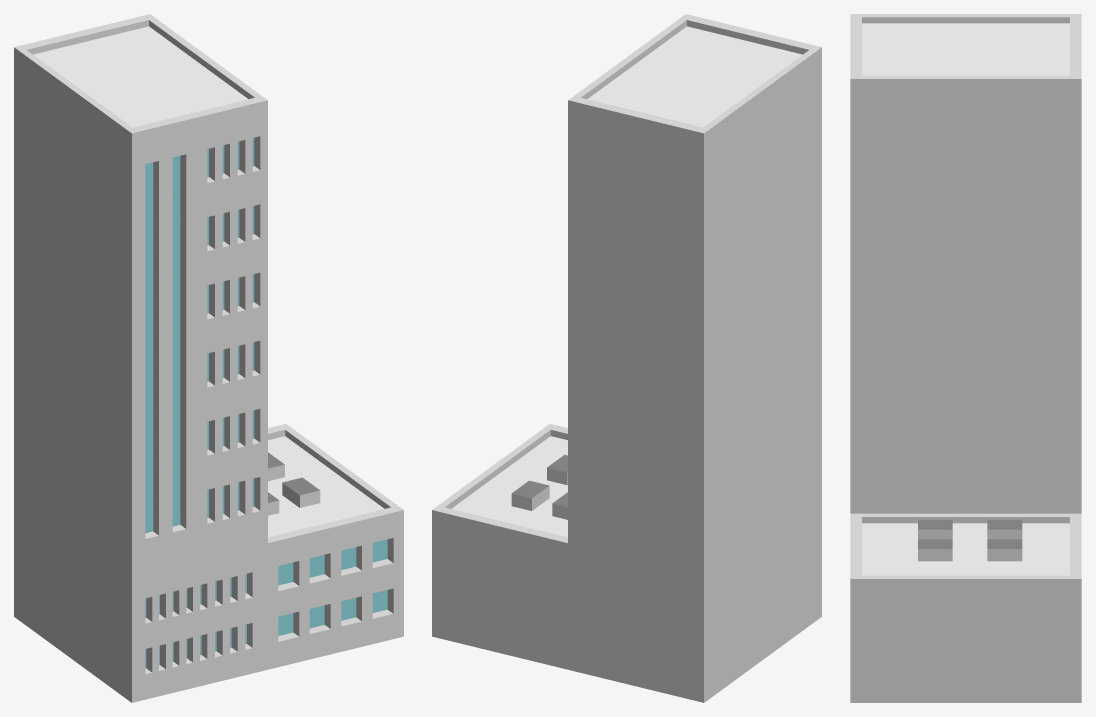
The model's file is building-inner-L.fbx.
3 renders of one model, left to right at view 1: azimuth 30°, elevation 25°; view 2: azimuth 150°, elevation 25°; view 3: azimuth 270°, elevation 25°, orthographic.
Parts seen in each view (by area): view 1: Cube; view 2: Cube; view 3: Cube.
Part boxes in pixels (<box>): Cube: <box>14,14,403,702</box>; Cube: <box>432,14,821,702</box>; Cube: <box>850,14,1081,702</box>.
Bounding box in the file's own units: 2000 × 4000 × 1500.
